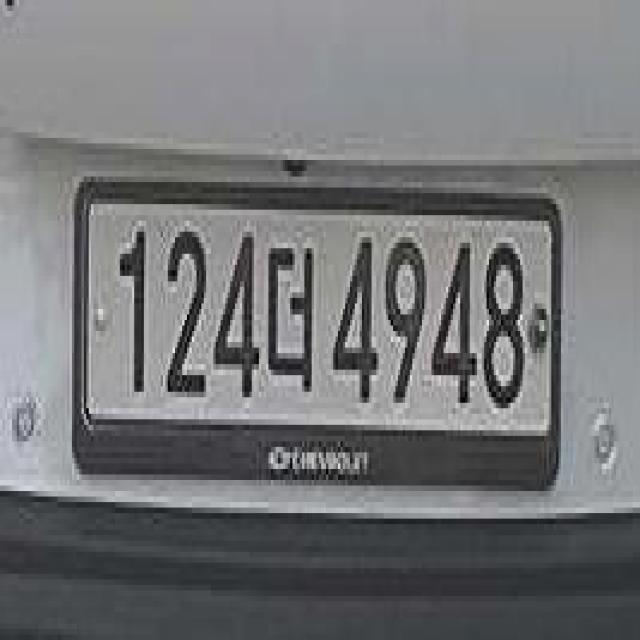illegal_plate: (78, 165, 558, 516)
